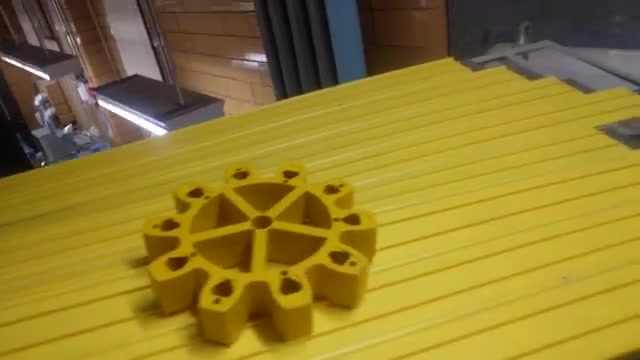gear: (126, 162, 397, 350)
